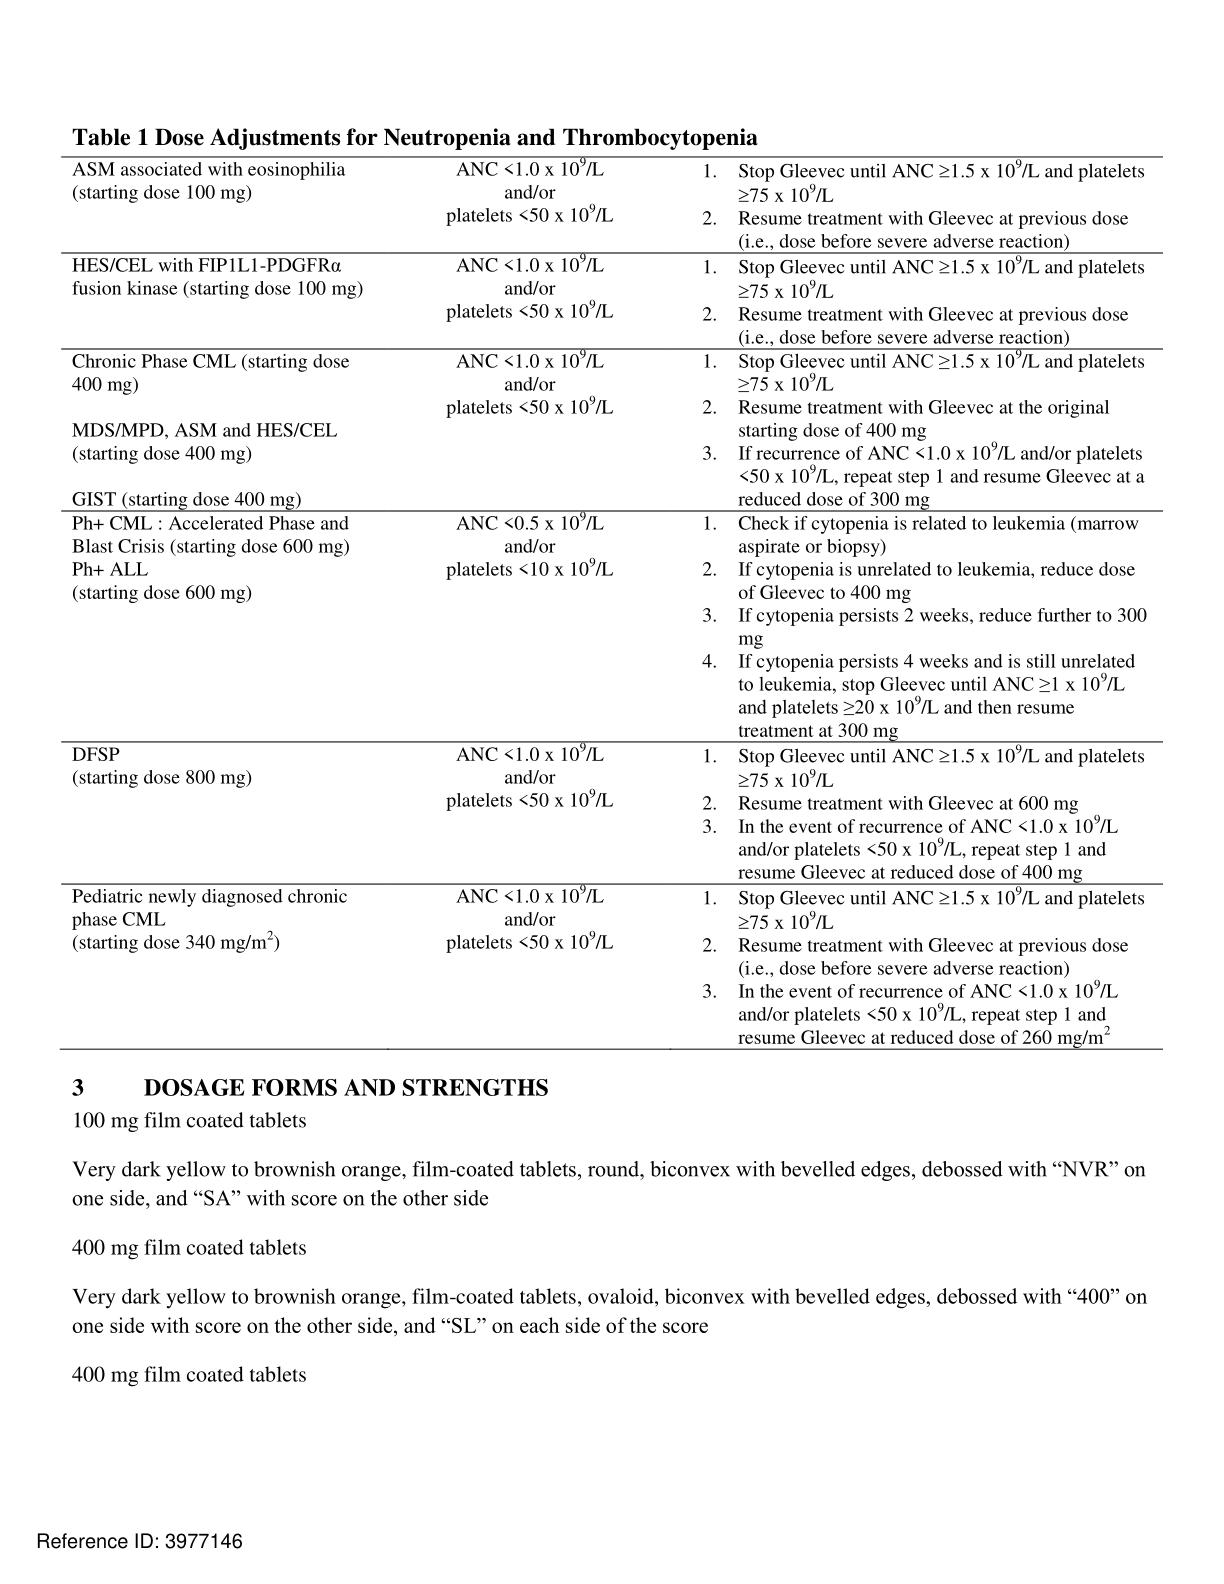partial_lined: (58, 154, 1165, 1050)
